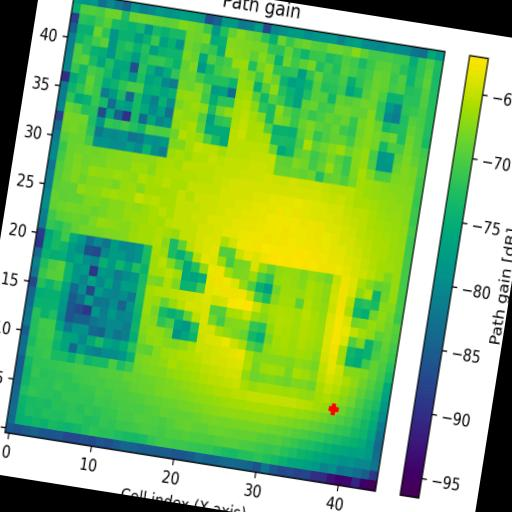Concrete: (274, 48, 374, 187)
Glass: (92, 18, 186, 158)
Metal: (237, 261, 332, 400)
Wood: (50, 233, 152, 374)
